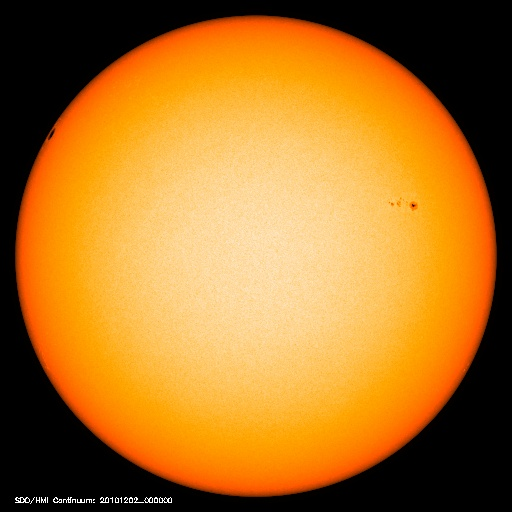sunspot: (378, 190, 425, 218), (39, 121, 67, 146)
